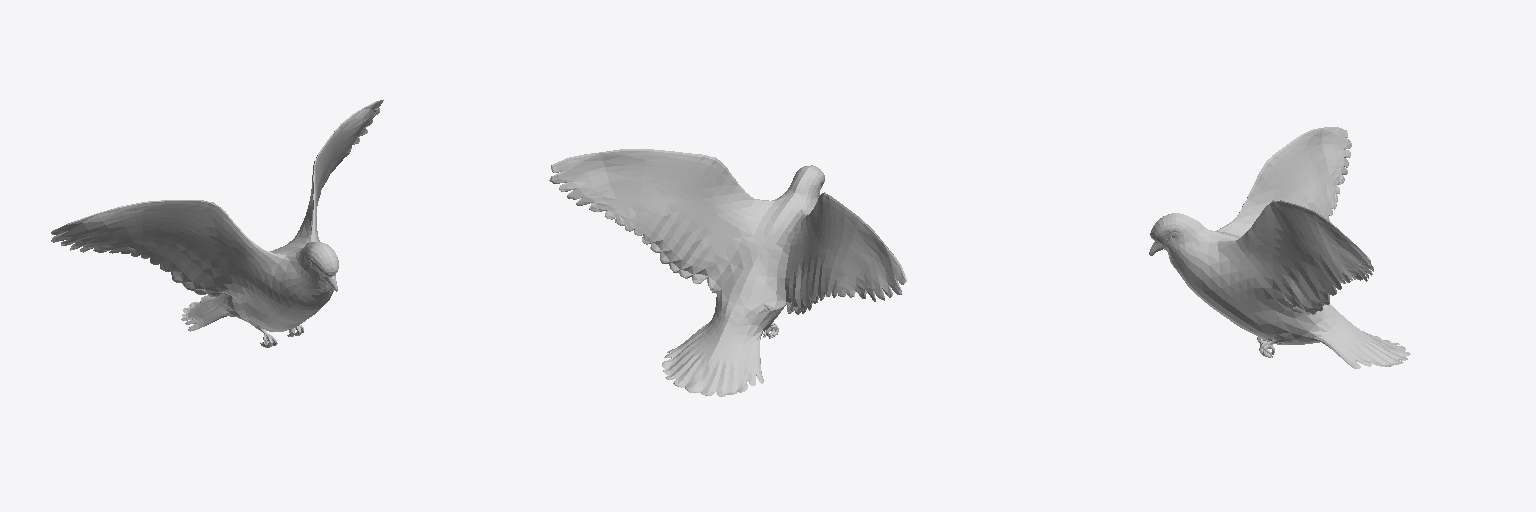
File: bird.obj
The picture shows the model from 3 angles: view 1: azimuth 30°, elevation 25°; view 2: azimuth 150°, elevation 25°; view 3: azimuth 270°, elevation 25°; orthographic projection.
Parts seen in each view (by area): view 1: 013_Vray; view 2: 013_Vray; view 3: 013_Vray.
Part boxes in pixels (x1,y1,x2,y2): 013_Vray: (51, 100, 383, 347); 013_Vray: (549, 149, 906, 396); 013_Vray: (1149, 127, 1410, 368).
Bounding box in the file's own units: 555 × 292 × 365.